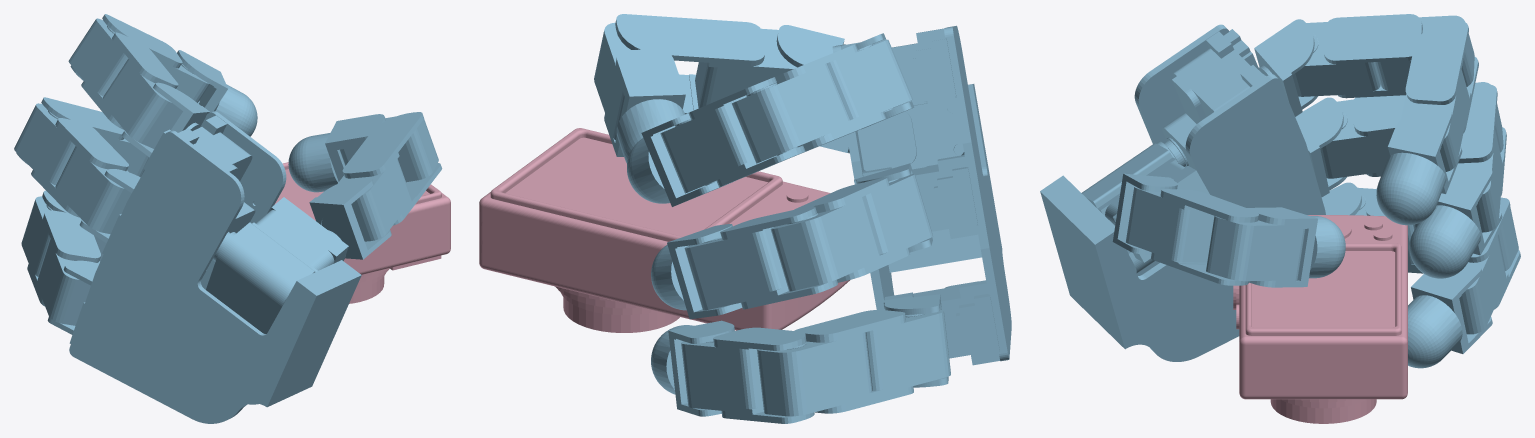
3 renders of one model, left to right at view 1: azimuth 30°, elevation 25°; view 2: azimuth 150°, elevation 25°; view 3: azimuth 270°, elevation 25°, orthographic. The views are drawn at different scales.
Visible parts, largest first — view 1: world; view 2: world; view 3: world.
Boxes of the visible parts, x1=… form: world: x1=14, y1=14, x2=450, y2=423; world: x1=479, y1=14, x2=1011, y2=423; world: x1=1040, y1=14, x2=1520, y2=423.
Size of the model in its own units: 0.1776 by 0.14 by 0.1848.
